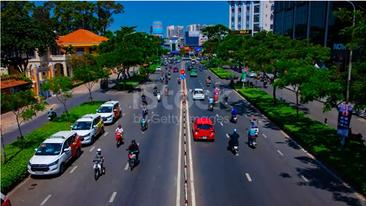car: (23, 128, 85, 179), (67, 110, 108, 148), (188, 113, 218, 143), (94, 99, 125, 127), (190, 85, 207, 103)
motorcycle: (125, 144, 141, 171), (92, 155, 107, 182), (228, 134, 242, 158), (115, 125, 123, 148), (248, 133, 258, 151), (138, 117, 149, 132), (205, 99, 216, 112), (229, 111, 239, 125), (140, 104, 148, 117), (156, 92, 162, 103), (249, 130, 249, 132)
